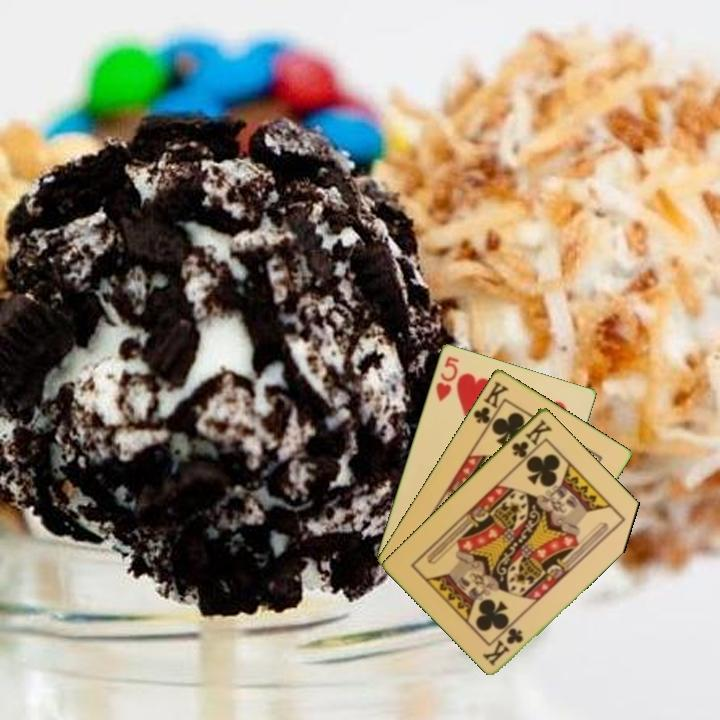5h: (432, 353, 462, 404)
Kc: (469, 377, 512, 432), (508, 415, 554, 461), (480, 624, 526, 668)
